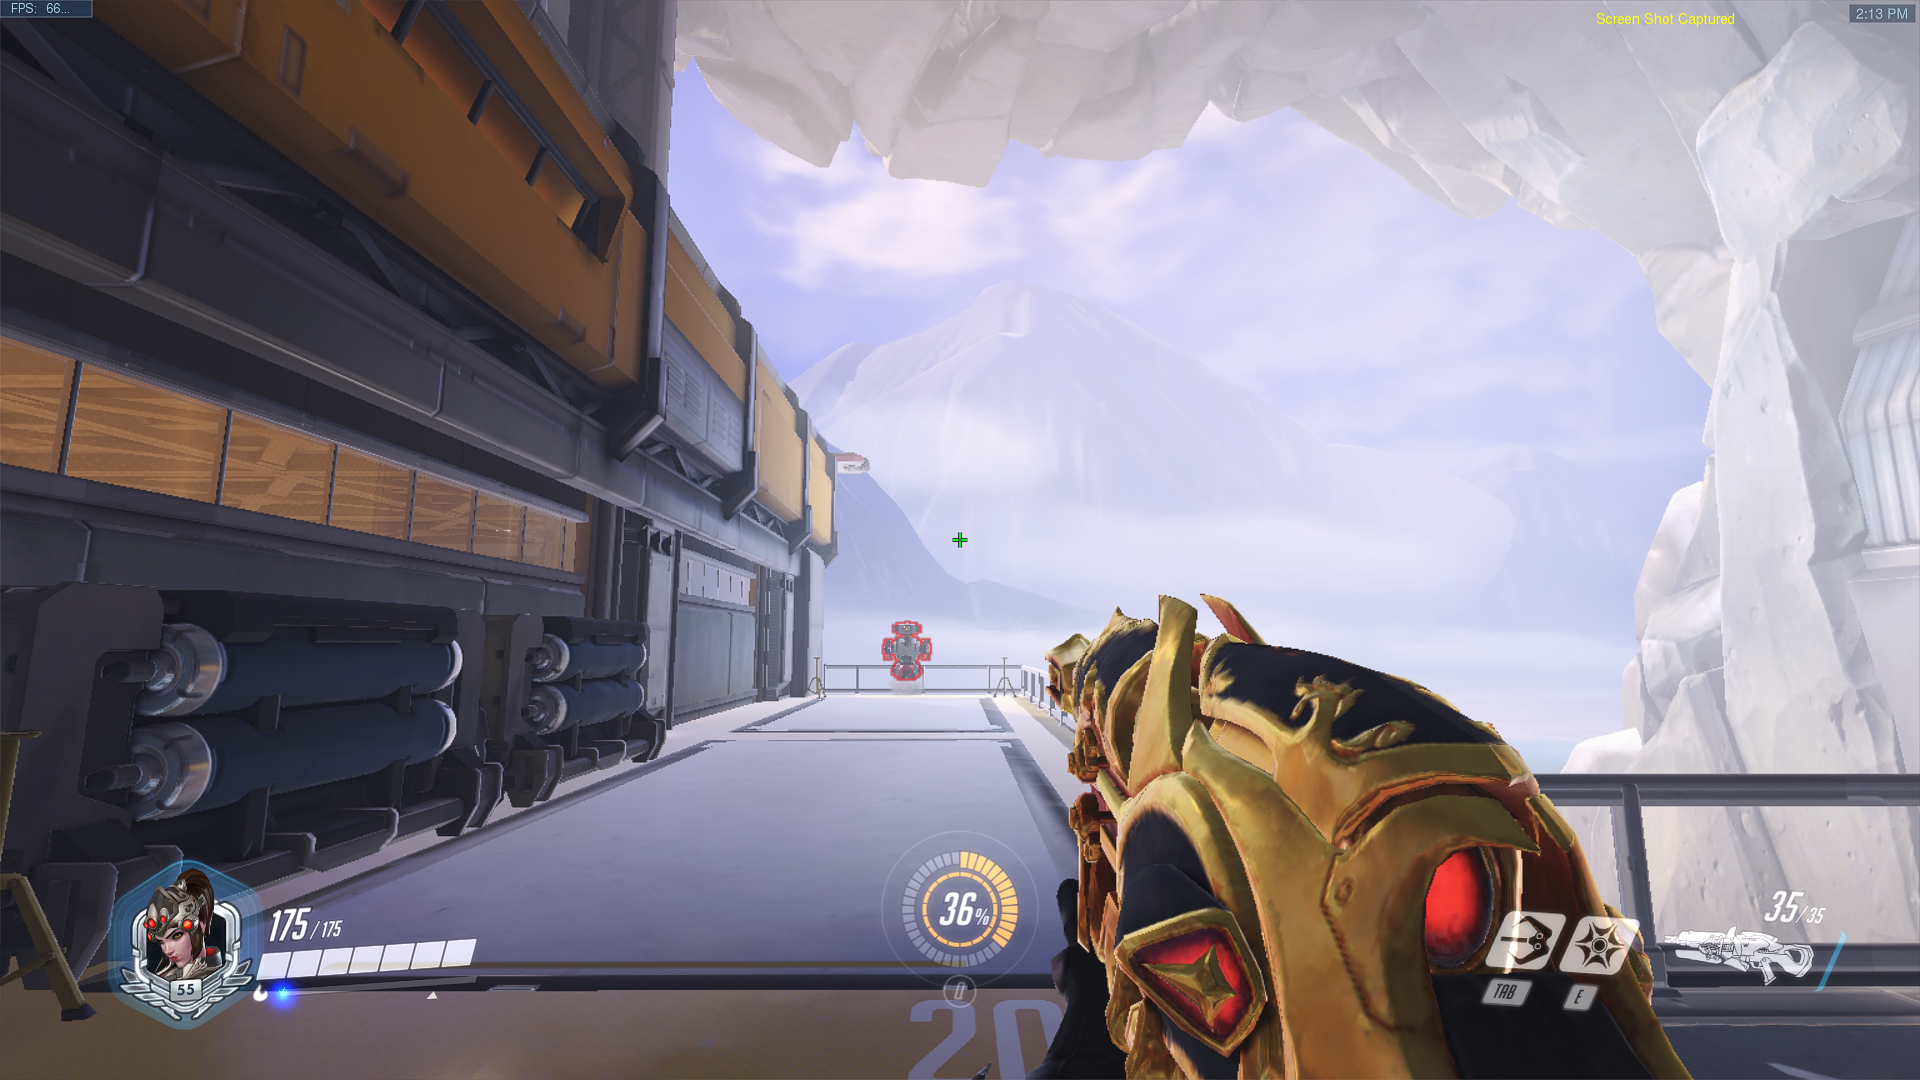head: (887, 621, 926, 640)
